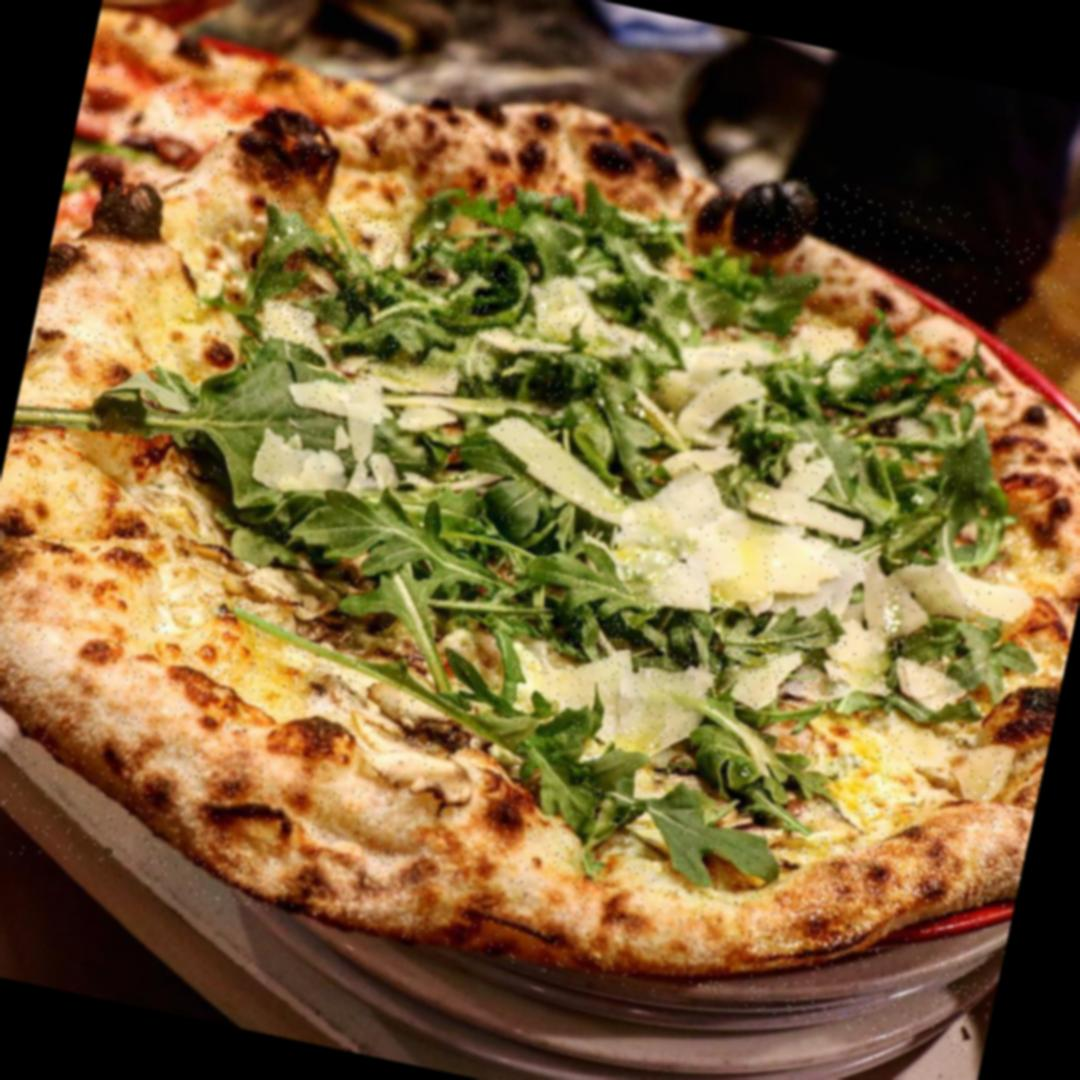Arugula: (157, 344, 609, 658), (352, 618, 808, 864), (243, 195, 540, 406), (758, 304, 1004, 514), (559, 578, 848, 712), (508, 251, 686, 436), (469, 180, 694, 282)
Pizza: (0, 27, 1080, 1062)
